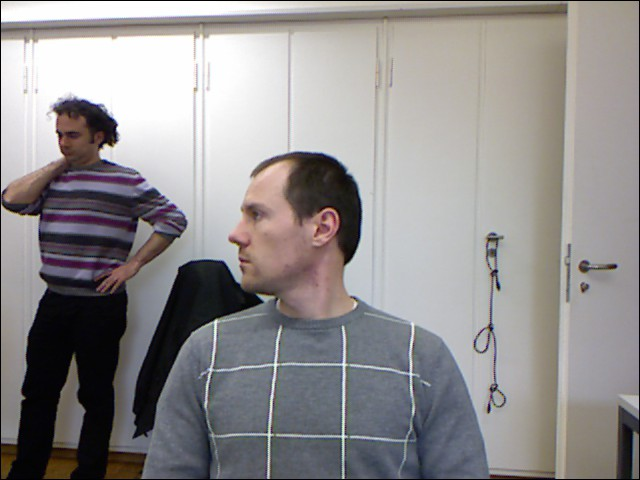deflection: (189, 162, 433, 480)
